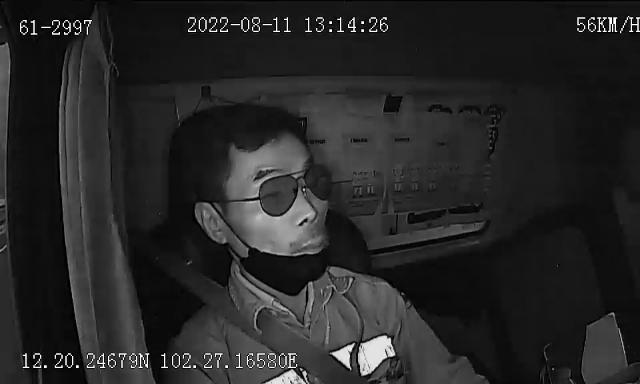SafeDriving: (418, 96, 459, 120)
Seatbelt: (182, 264, 366, 384)
